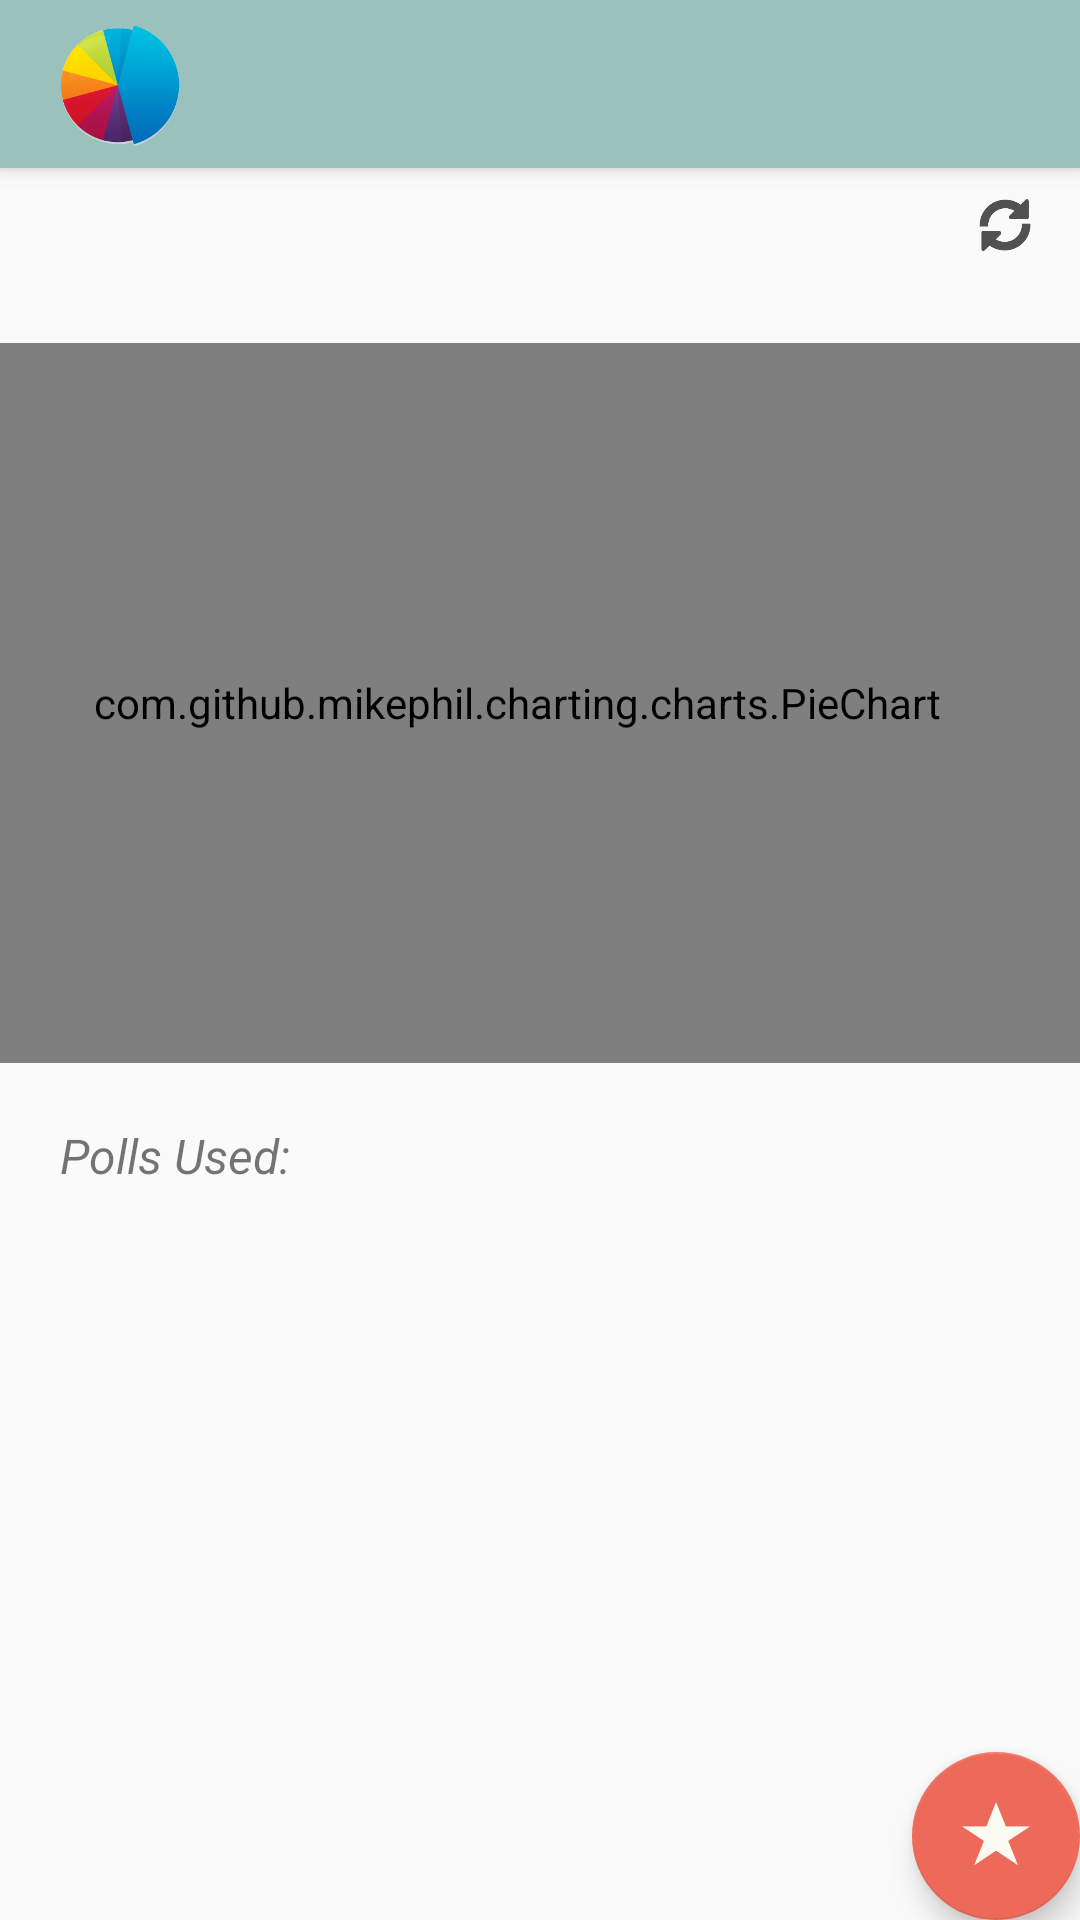

Icons on this 1080px×1920px Android screen, each with the point to tap as point (x, y):
refresh: point (1005, 225)
star: point (996, 1836)
